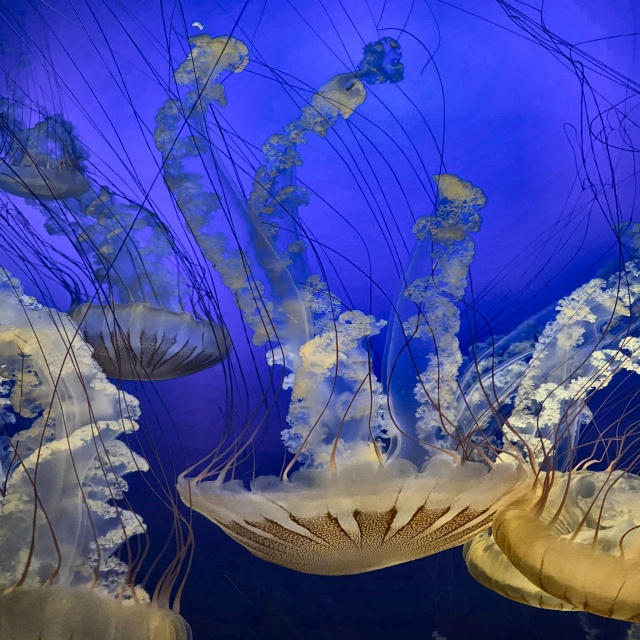jellyfish: (176, 462, 535, 577), (492, 470, 639, 622), (463, 528, 631, 611), (57, 304, 231, 381), (0, 583, 188, 639), (0, 166, 85, 200)
